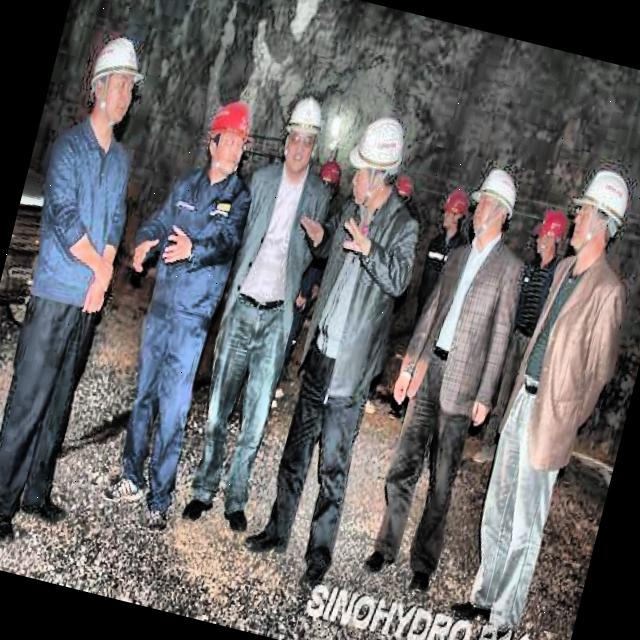helmet: (561, 156, 640, 272), (74, 22, 154, 135), (346, 106, 408, 200), (194, 91, 258, 182), (272, 80, 328, 176), (464, 162, 524, 243), (432, 178, 476, 245), (526, 203, 570, 267), (384, 164, 422, 224), (312, 154, 346, 208)
